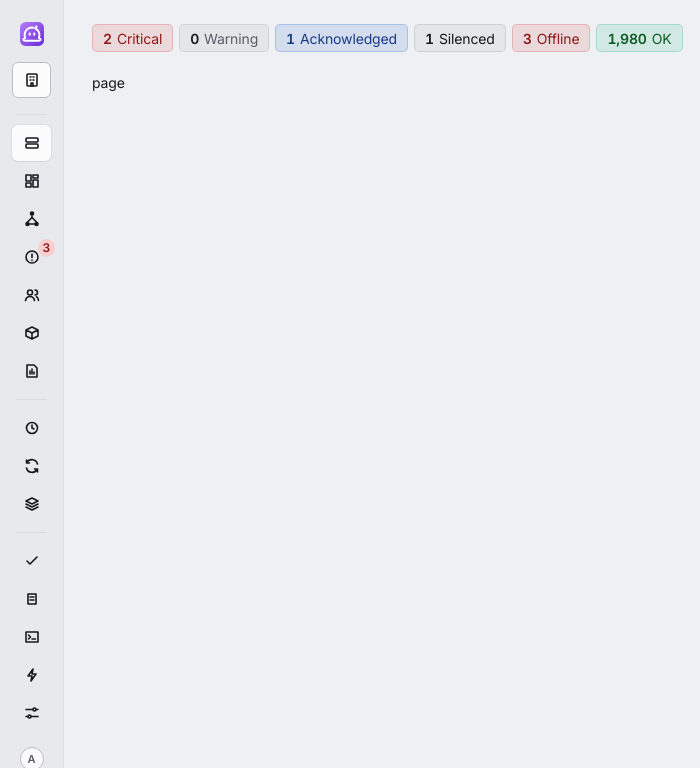
Test: AppShell › stores the chosen customer in the URL and keeps it in every link
The image size is (700, 768).
Step 1. Click the button named "Scope: All customers" → point(32, 80), box 12,62 -> 51,98
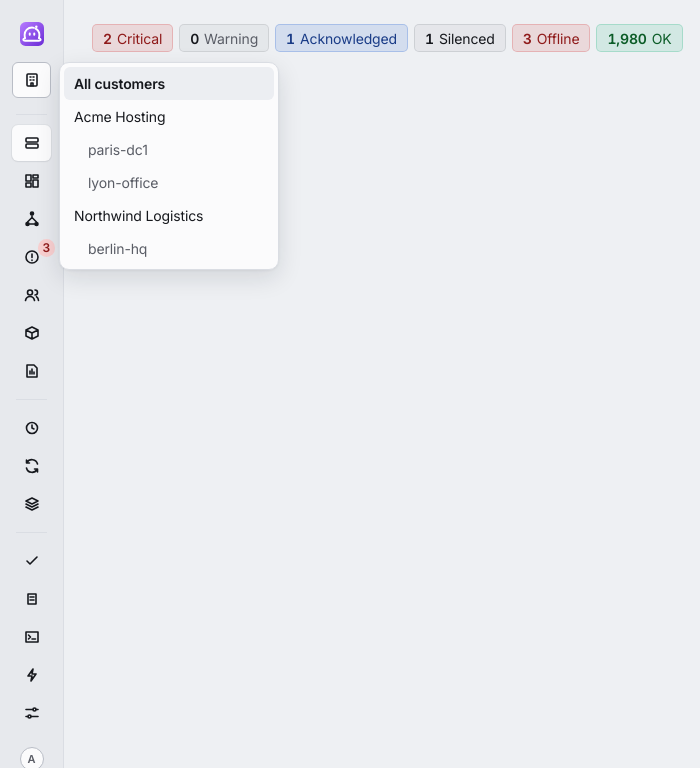
Now the options read "All customers", "Acme Hosting", "paris-dc1", "lyon-office", "Northwind Logistics", "berlin-hq", in this order
Step 2. Click the option "Acme Hosting" → point(120, 116), box 74,108 -> 165,125
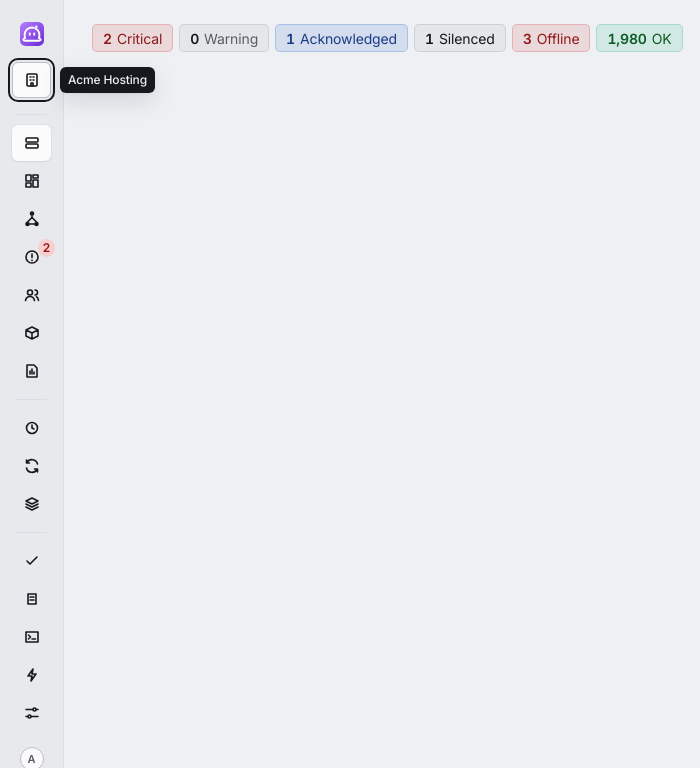
Now the list "Acme Hosting paris-dc1 lyon-office" is gone
